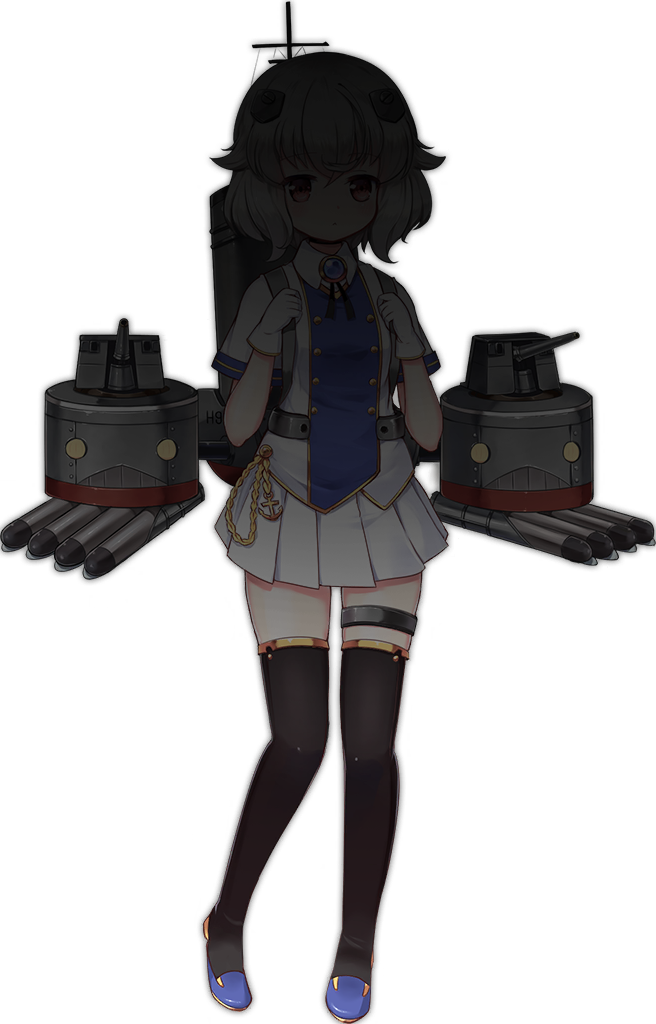person: (178, 35, 474, 1023)
